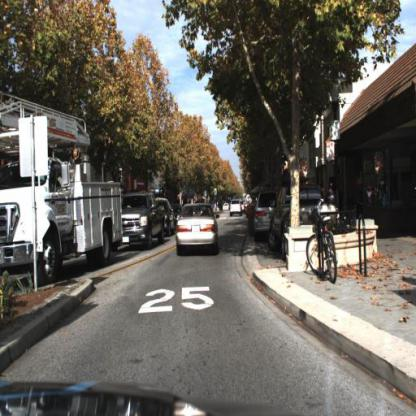car: (268, 184, 342, 254), (119, 190, 167, 249), (174, 202, 220, 258), (253, 191, 272, 240), (229, 196, 244, 222)
pedestrian: (326, 186, 337, 221)
truck: (1, 94, 126, 284)
